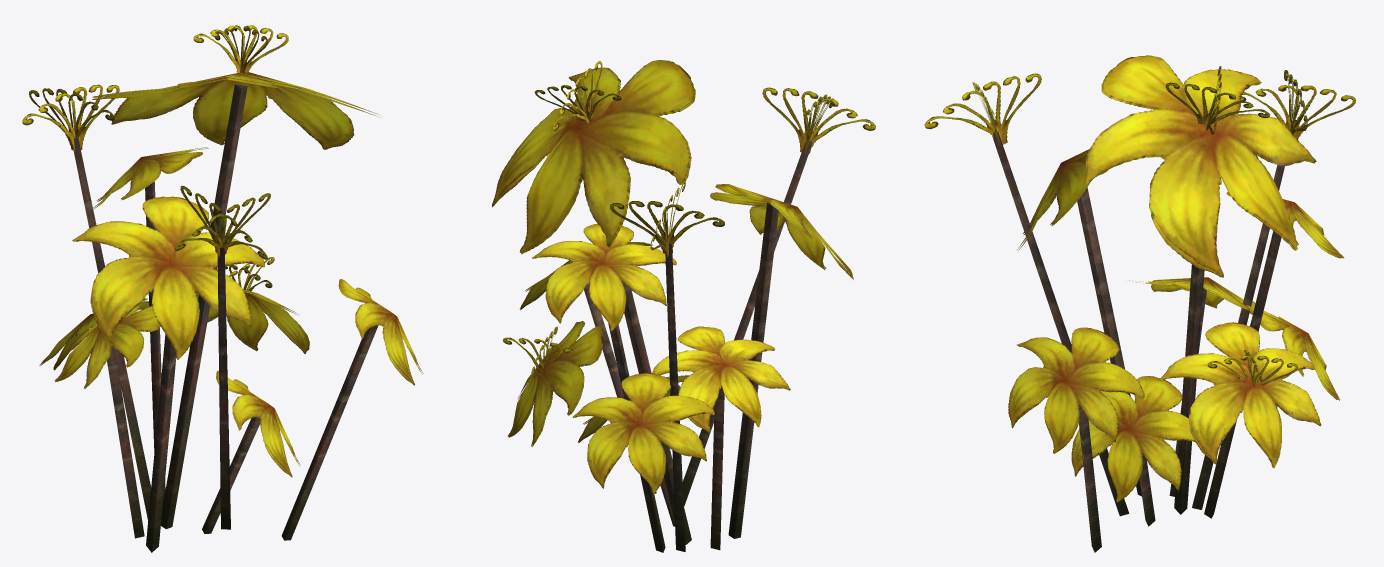
File: guanmu_018.FBX
3 views of the same model, side by side, from view 1: azimuth 30°, elevation 25°; view 2: azimuth 150°, elevation 25°; view 3: azimuth 270°, elevation 25° (orthographic). The views are drawn at different scales.
Visible parts, largest first — view 1: guanmu_018_01; view 2: guanmu_018_01; view 3: guanmu_018_01.
Boxes of the visible parts, bbox=[...] form: guanmu_018_01: bbox=[22, 25, 423, 552]; guanmu_018_01: bbox=[492, 60, 875, 552]; guanmu_018_01: bbox=[924, 55, 1355, 552].
Bounding box in the file's own units: 0.9146 × 1.06 × 0.8968.
